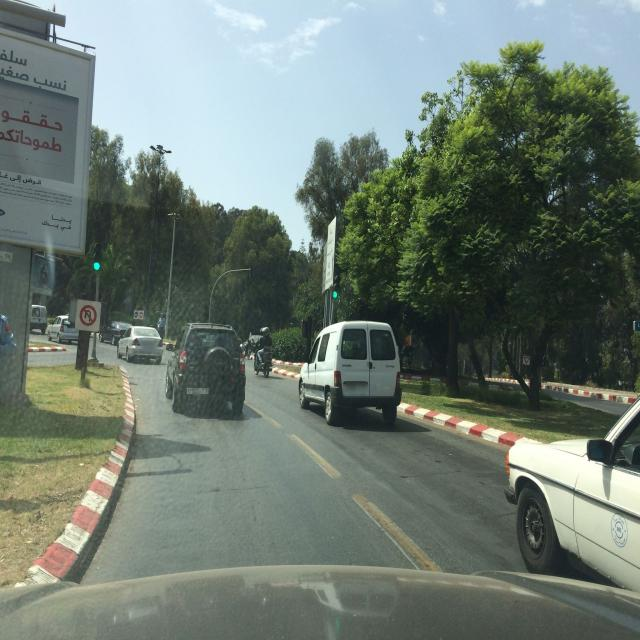bike: (253, 344, 274, 377)
car: (506, 374, 640, 607), (298, 320, 402, 426), (166, 321, 247, 416), (116, 326, 164, 363), (46, 315, 80, 343), (99, 320, 132, 344)
